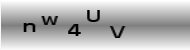4: (67, 23, 82, 37)
U: (86, 8, 101, 22)
V: (108, 25, 126, 39)
n: (22, 22, 36, 32)
w: (40, 15, 59, 25)
